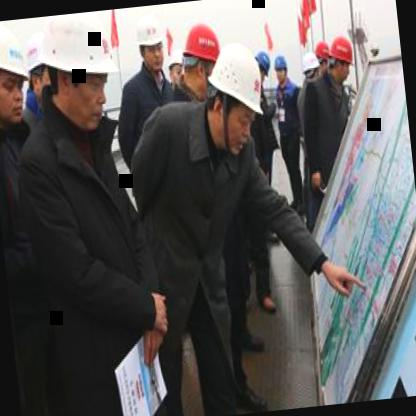helmet: (37, 10, 122, 134), (202, 44, 270, 154), (0, 18, 36, 135), (174, 15, 224, 95), (132, 7, 170, 79), (20, 33, 52, 99), (322, 29, 353, 83), (161, 42, 186, 88), (310, 32, 334, 70), (251, 48, 273, 88), (300, 46, 320, 87), (271, 51, 291, 87)
